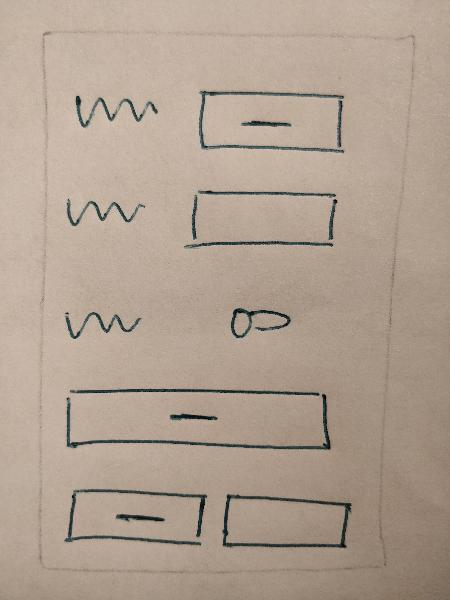button: (58, 384, 338, 454), (193, 79, 352, 166), (60, 478, 214, 553)
switch: (218, 300, 296, 347)
text: (69, 86, 166, 131), (55, 298, 152, 343), (56, 189, 153, 234)
text_input: (180, 183, 342, 255), (217, 486, 357, 555)
